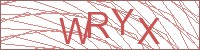R: (86, 9, 111, 40)
W: (57, 16, 92, 46)
X: (136, 17, 162, 45)
Y: (108, 6, 136, 36)
